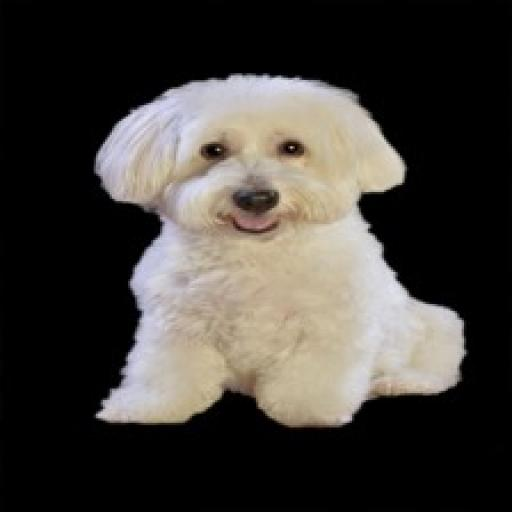dog: (70, 61, 472, 435)
